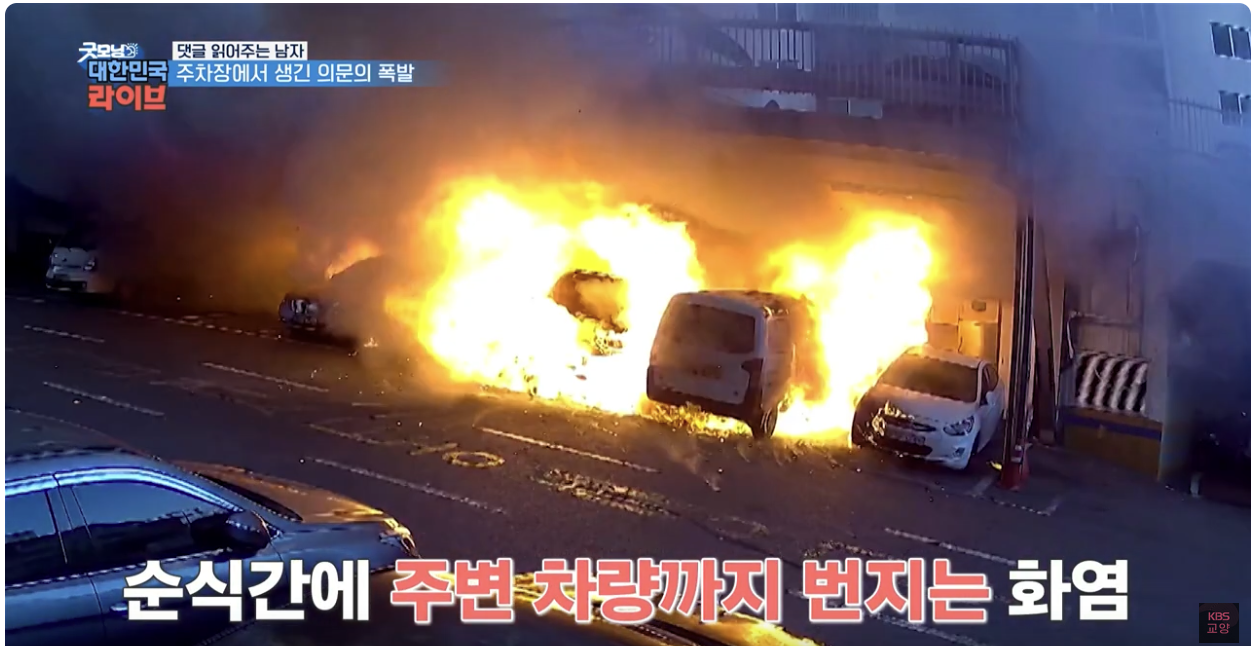fire: (358, 165, 646, 410), (754, 193, 962, 361)
